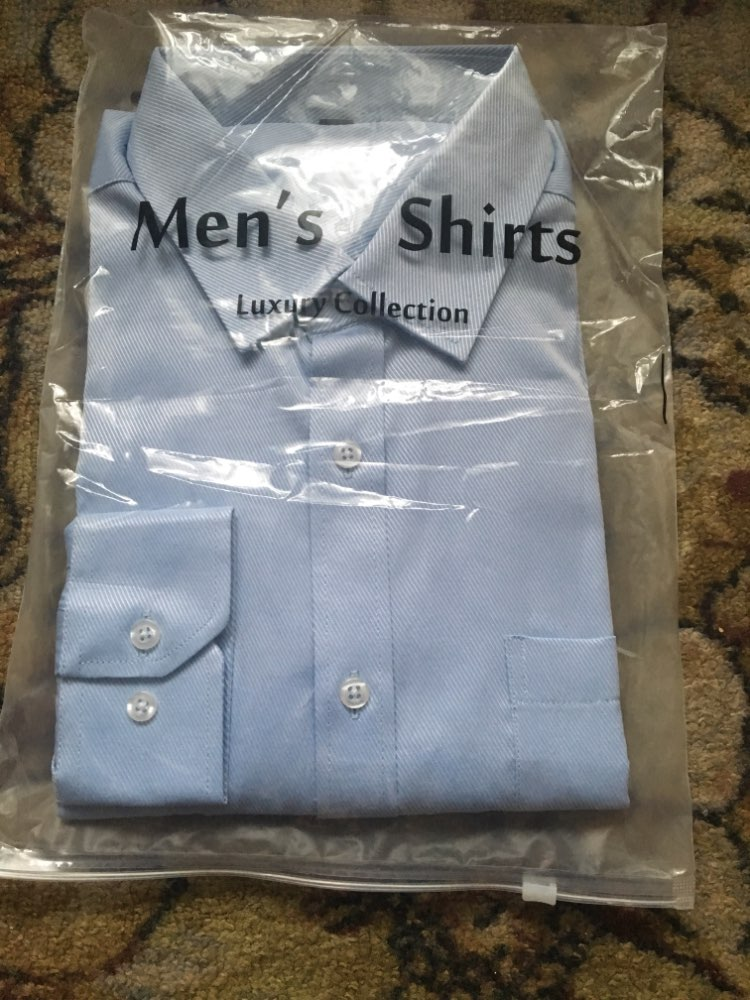shirts: (85, 50, 631, 818)
